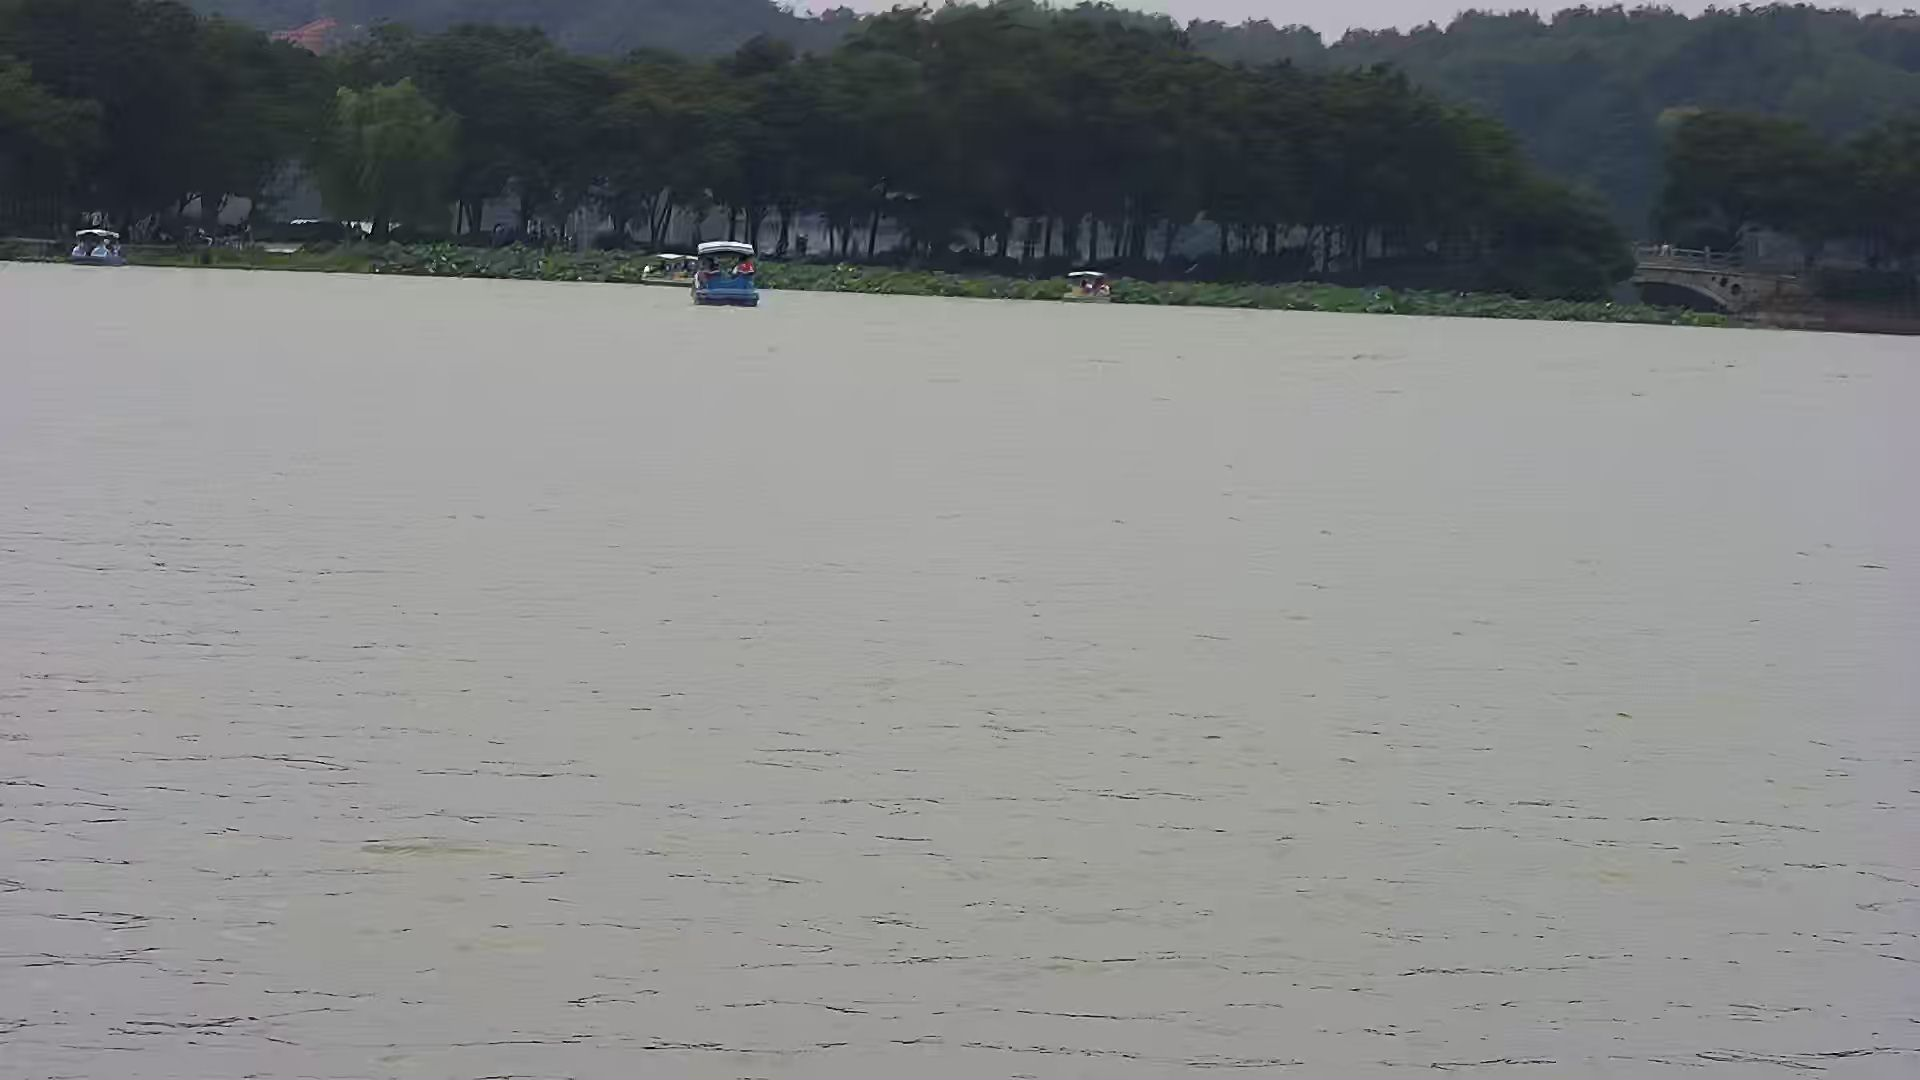boat: (688, 239, 764, 309), (65, 225, 125, 273), (1062, 265, 1114, 306)
bridge: (1629, 239, 1785, 310)
